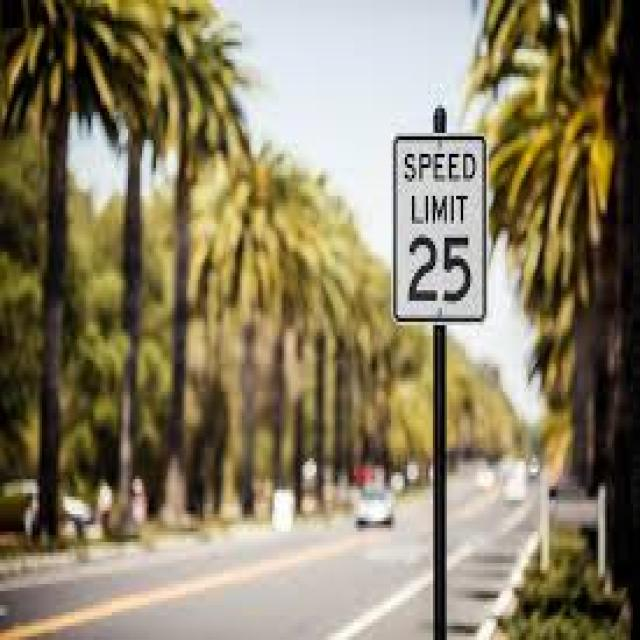speedLimit25: (394, 133, 486, 322)
